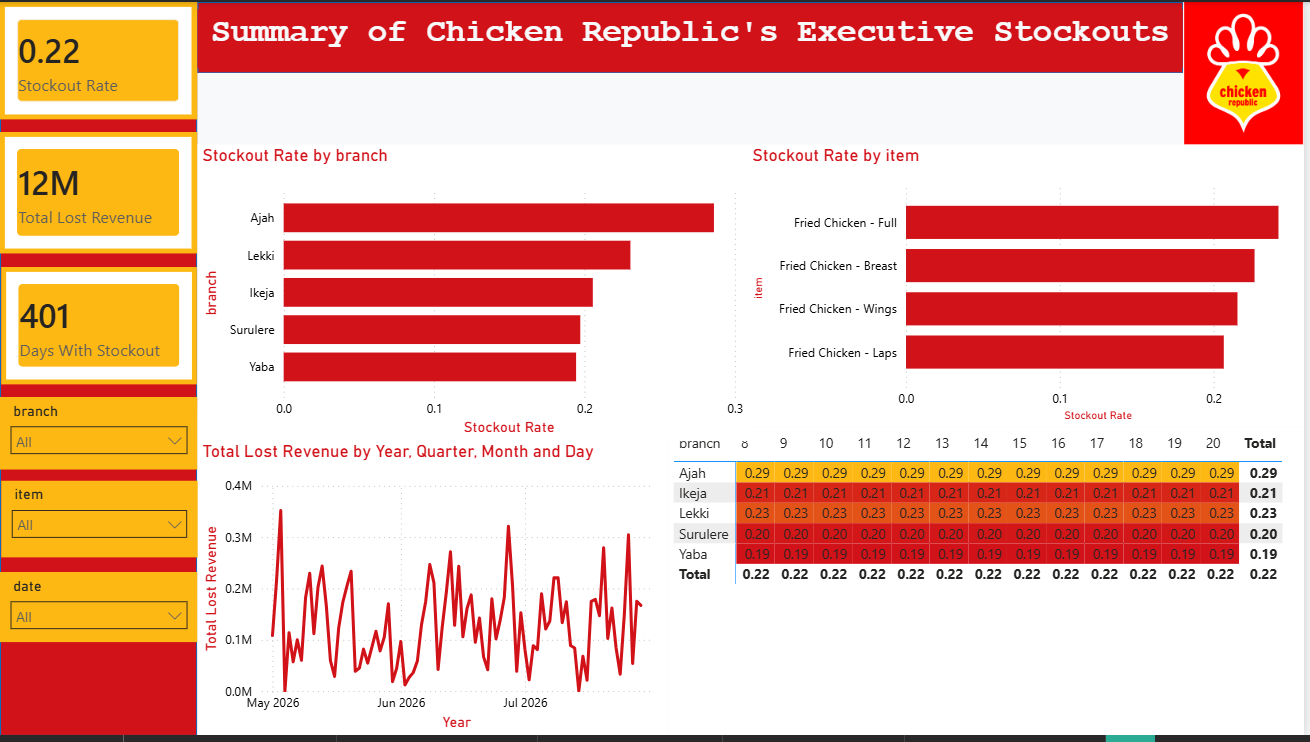

This screenshot's page, from the dashboard's own definition file:
{"tool":"powerbi","page":{"name":"EXECUTIVE STOCKOUTS","canvas":[1280,720],"ordinal":0},"visuals":[{"type":"shape","box":[0,0,193.5,720.4],"z":0},{"type":"image","box":[1160.9,0,119.4,140],"z":1000},{"type":"cardVisual","fields":{"Data":["tasty_fried_chicken_raw_dataset.Stockout Rate"]},"box":[0,0,193.5,115.3],"z":2000},{"type":"cardVisual","fields":{"Data":["tasty_fried_chicken_raw_dataset.Total Lost Revenue"]},"box":[0,127.6,193.5,119.4],"z":3000},{"type":"cardVisual","fields":{"Data":["tasty_fried_chicken_raw_dataset.Days With Stockout"]},"box":[1.4,260.7,192.1,115.3],"z":4000},{"type":"pivotTable","fields":{"Columns":["tasty_fried_chicken_raw_dataset.hour"],"Values":["tasty_fried_chicken_raw_dataset.Stockout Rate"],"Rows":["DailySummary.branch"]},"box":[655.9,417.2,624.4,303.3],"z":5000},{"type":"shape","box":[193.5,0,967.4,70],"z":6000},{"type":"barChart","fields":{"Category":["DailySummary.branch"],"Y":["tasty_fried_chicken_raw_dataset.Stockout Rate"]},"box":[193.5,140,540.7,290.9],"z":7000},{"type":"barChart","fields":{"Category":["DailySummary.item"],"Y":["tasty_fried_chicken_raw_dataset.Stockout Rate"]},"box":[734.1,140,546.1,277.2],"z":8000},{"type":"lineChart","fields":{"Y":["tasty_fried_chicken_raw_dataset.Total Lost Revenue"],"Category":["tasty_fried_chicken_raw_dataset.date.Variation.Date Hierarchy.Year","tasty_fried_chicken_raw_dataset.date.Variation.Date Hierarchy.Quarter","tasty_fried_chicken_raw_dataset.date.Variation.Date Hierarchy.Month","tasty_fried_chicken_raw_dataset.date.Variation.Date Hierarchy.Day"]},"box":[193.5,430.9,462.4,289.5],"z":9000},{"type":"textbox","box":[193.5,6.9,967.4,57.6],"z":10000},{"type":"slicer","fields":{"Values":["DailySummary.branch"]},"box":[0,387.7,193.9,71.2],"z":10001},{"type":"slicer","fields":{"Values":["DailySummary.item"]},"box":[1.2,469.9,192.6,74.8],"z":10002},{"type":"slicer","fields":{"Values":["DailySummary.date"]},"box":[0,559.5,193.9,68.7],"z":10003}]}

Visuals, with their boxes in screenshot pixels (x1, y1, x2, y2), scaled from the page's 1280x720 canvas onto the 1310x742 screenshot:
shape: (x1=0, y1=0, x2=198, y2=741)
image: (x1=1188, y1=0, x2=1309, y2=144)
cardVisual - tasty_fried_chicken_raw_dataset.Stockout Rate: (x1=0, y1=0, x2=198, y2=119)
cardVisual - tasty_fried_chicken_raw_dataset.Total Lost Revenue: (x1=0, y1=131, x2=198, y2=255)
cardVisual - tasty_fried_chicken_raw_dataset.Days With Stockout: (x1=1, y1=269, x2=198, y2=387)
pivotTable - tasty_fried_chicken_raw_dataset.hour x tasty_fried_chicken_raw_dataset.Stockout Rate: (x1=671, y1=430, x2=1309, y2=741)
shape: (x1=198, y1=0, x2=1188, y2=72)
barChart - DailySummary.branch x tasty_fried_chicken_raw_dataset.Stockout Rate: (x1=198, y1=144, x2=751, y2=444)
barChart - DailySummary.item x tasty_fried_chicken_raw_dataset.Stockout Rate: (x1=751, y1=144, x2=1309, y2=430)
lineChart - tasty_fried_chicken_raw_dataset.Total Lost Revenue x tasty_fried_chicken_raw_dataset.date.Variation.Date Hierarchy.Year: (x1=198, y1=444, x2=671, y2=741)
textbox: (x1=198, y1=7, x2=1188, y2=66)
slicer - DailySummary.branch: (x1=0, y1=400, x2=198, y2=473)
slicer - DailySummary.item: (x1=1, y1=484, x2=198, y2=561)
slicer - DailySummary.date: (x1=0, y1=577, x2=198, y2=647)
